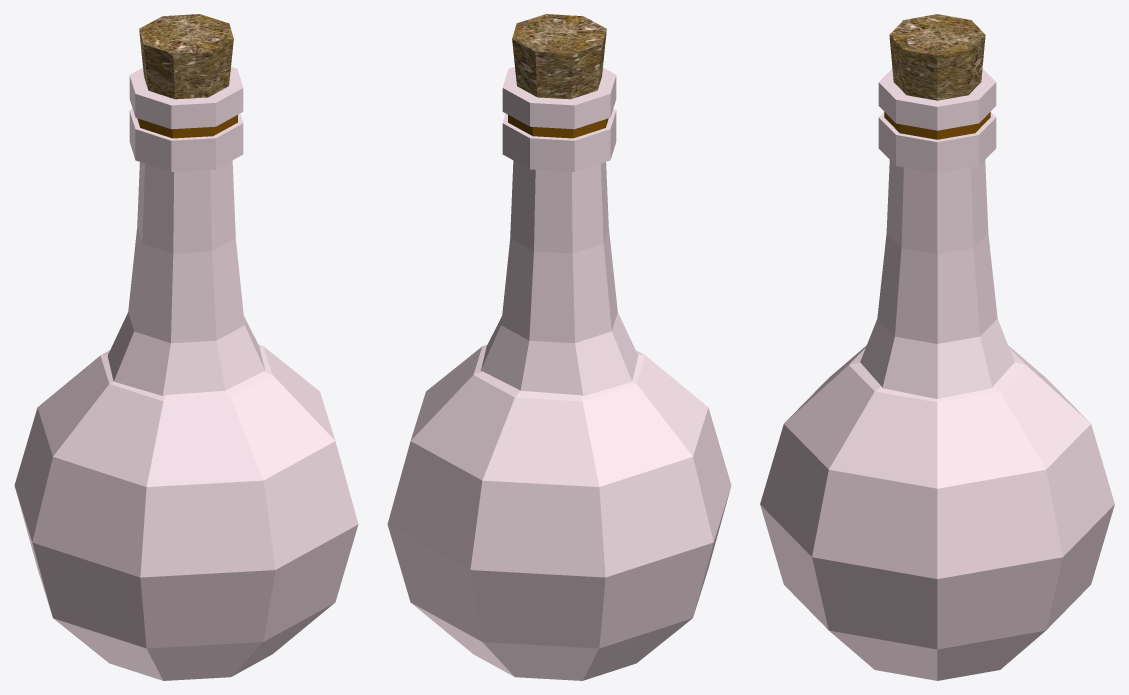
The model's file is Potion.fbx.
The picture shows the model from 3 angles, left to right: view 1: azimuth 30°, elevation 25°; view 2: azimuth 150°, elevation 25°; view 3: azimuth 270°, elevation 25°; orthographic projection.
Visible parts, largest first — view 1: Potion; view 2: Potion; view 3: Potion.
Boxes of the visible parts, left/top/right/bottom form: Potion: left=14, top=14, right=358, bottom=680; Potion: left=387, top=14, right=731, bottom=680; Potion: left=760, top=14, right=1114, bottom=680.
Bounding box in the file's own units: 32.46 × 61.42 × 32.46.
